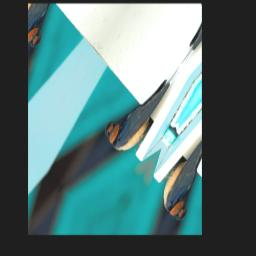Swallow: (98, 44, 188, 165)
